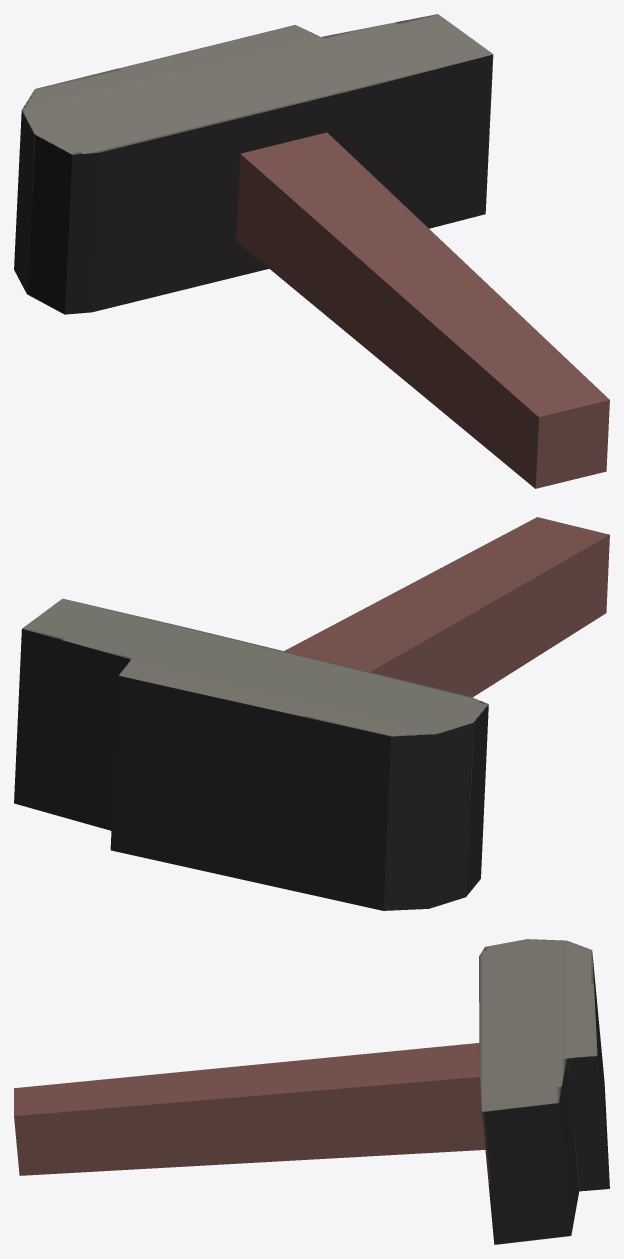
Rendered from Marteau.fbx.
3 renders of one model, top to bottom at view 1: azimuth 30°, elevation 25°; view 2: azimuth 150°, elevation 25°; view 3: azimuth 270°, elevation 25°, orthographic. The views are drawn at different scales.
Parts seen in each view (by area): view 1: Cube; view 2: Cube; view 3: Cube.
Boxes of the visible parts, bbox=[...] form: Cube: bbox=[14, 14, 609, 488]; Cube: bbox=[14, 517, 609, 910]; Cube: bbox=[14, 939, 609, 1244].
Size of the model in its own units: 29.22 by 11.43 by 43.51.
